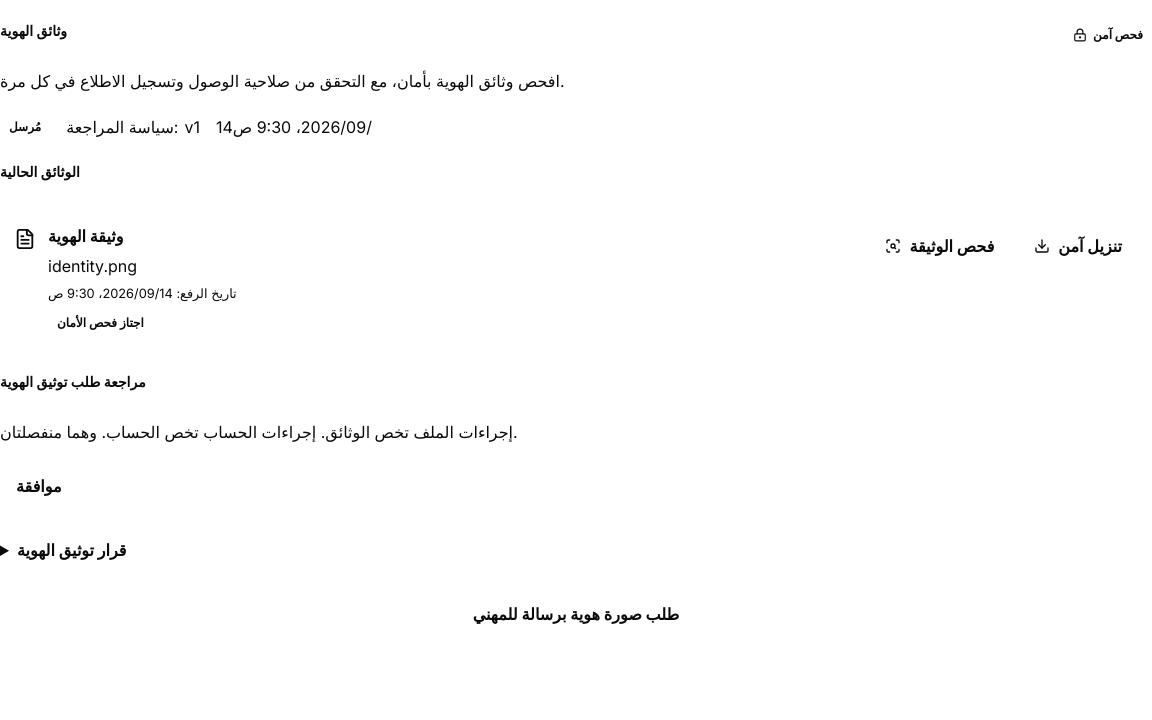
Test case: restricted identity preview › explains ar identity conflict EVIDENCE_OBJECT_UNAVAILABLE while preserving the case note
The width and height of the screenshot is (1152, 720).
Click the button with test id "review-case-approve" at x=39, y=486, box x1=0 y1=464 x2=78 y2=508
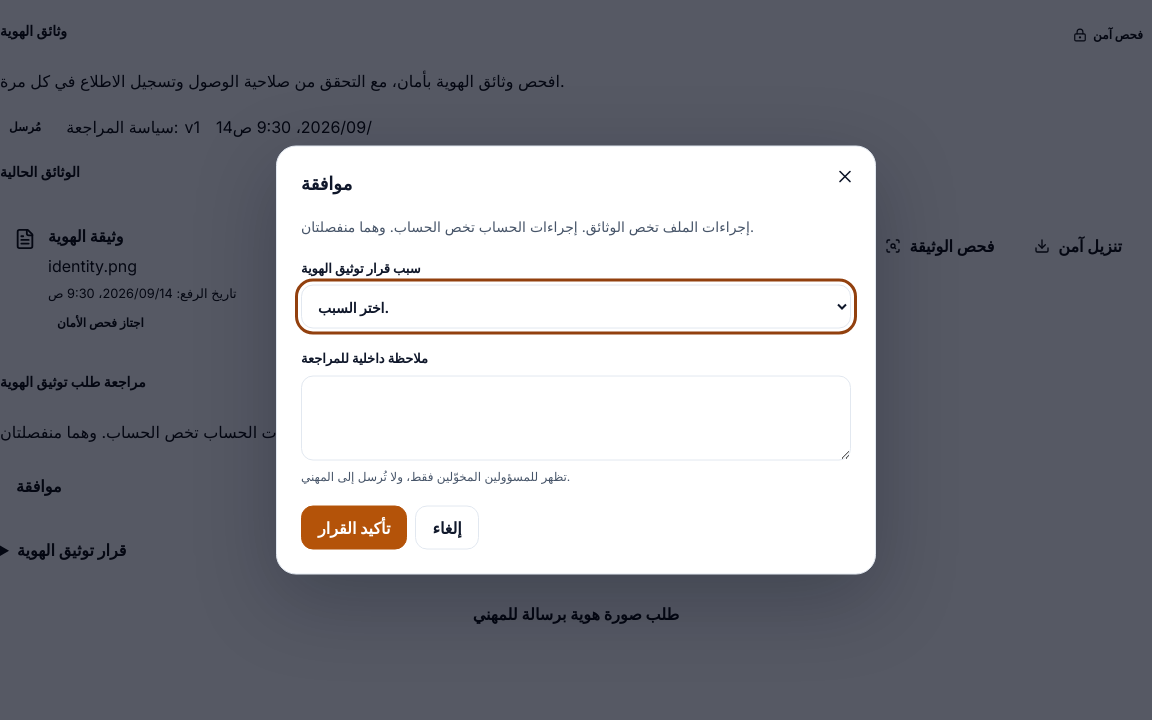
Select "الوثائق كاملة وواضحة" in the dropdown at x=576, y=307, box x1=301 y1=285 x2=851 y2=329
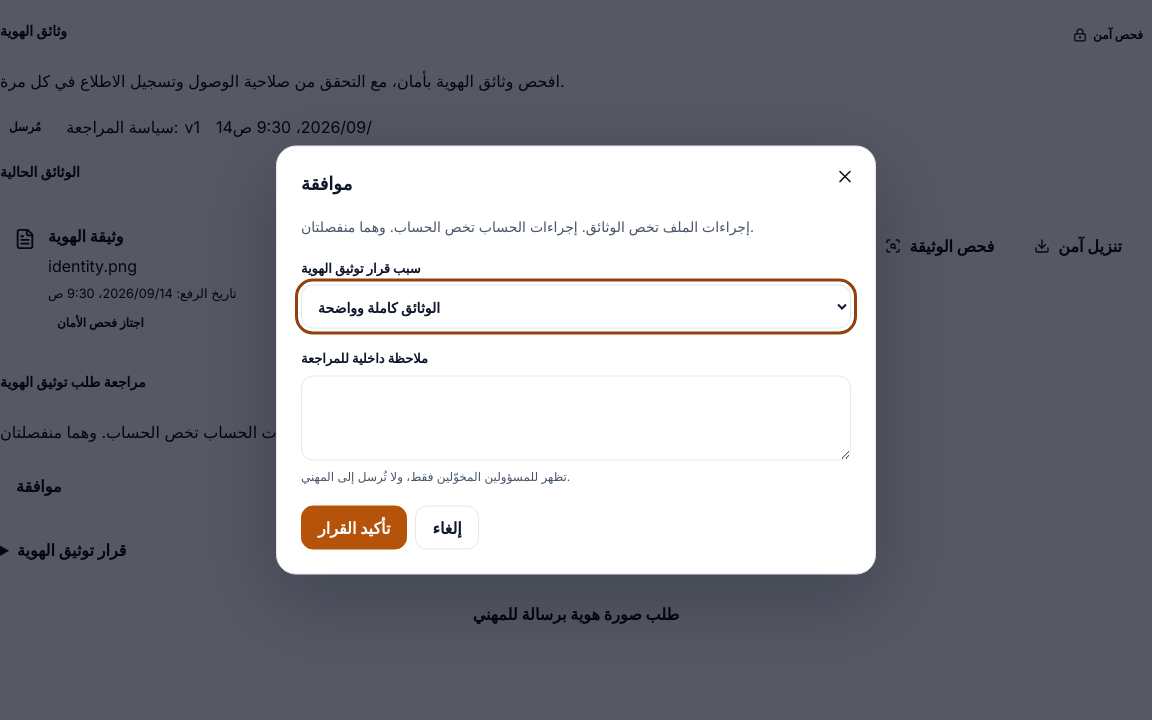
Type "Preserved case note" into the text box at x=576, y=418, box x1=301 y1=375 x2=851 y2=460
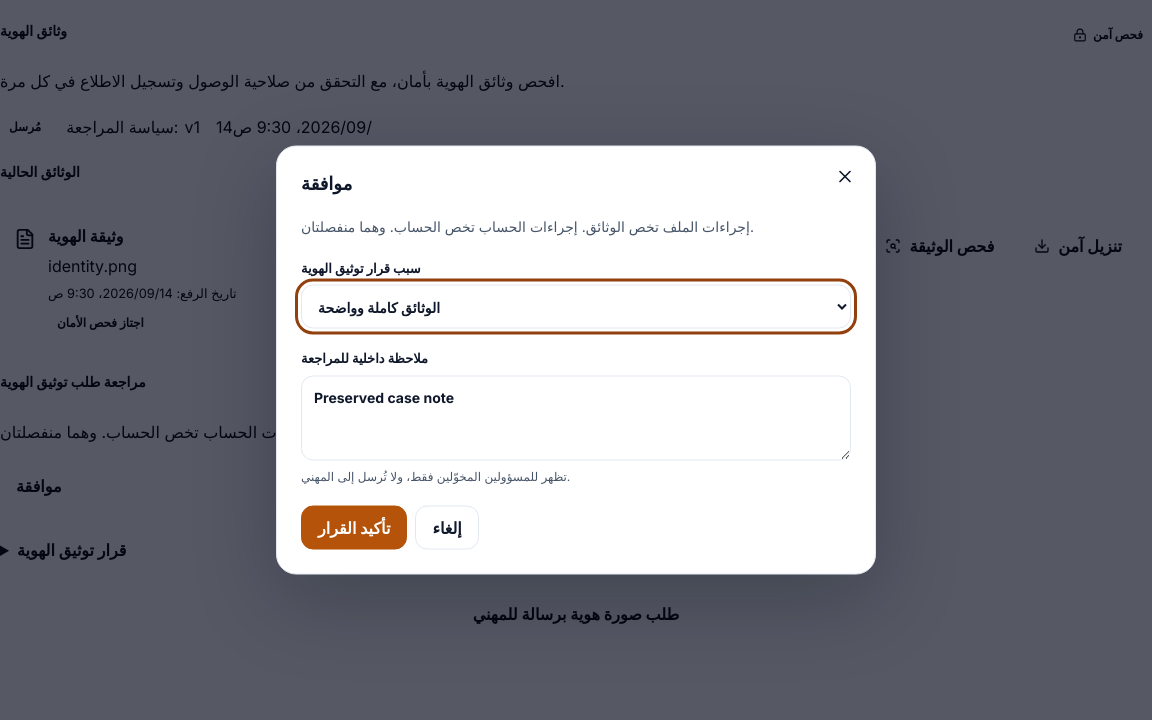
Click the button with test id "review-case-confirm" at x=354, y=527, box x1=301 y1=505 x2=407 y2=550
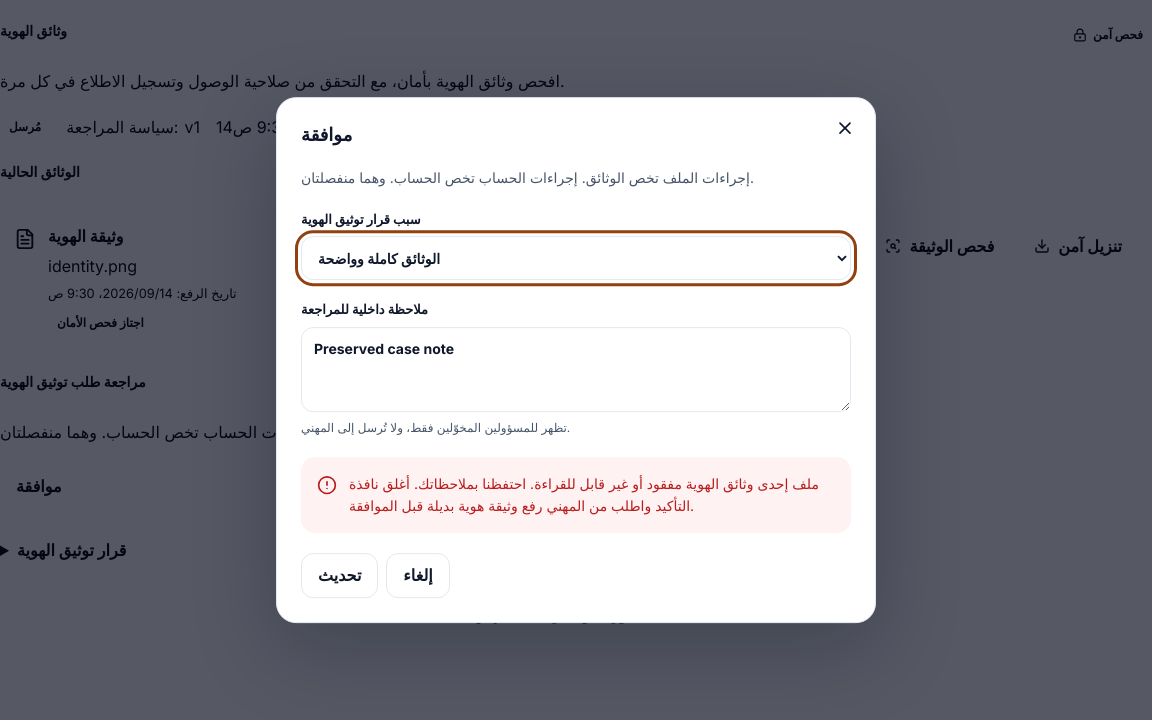
Expected: the message shows "وثيقة هوية بديلة", x1=349 y1=475 x2=819 y2=514
Expected: the button with test id "review-case-confirm" is gone
